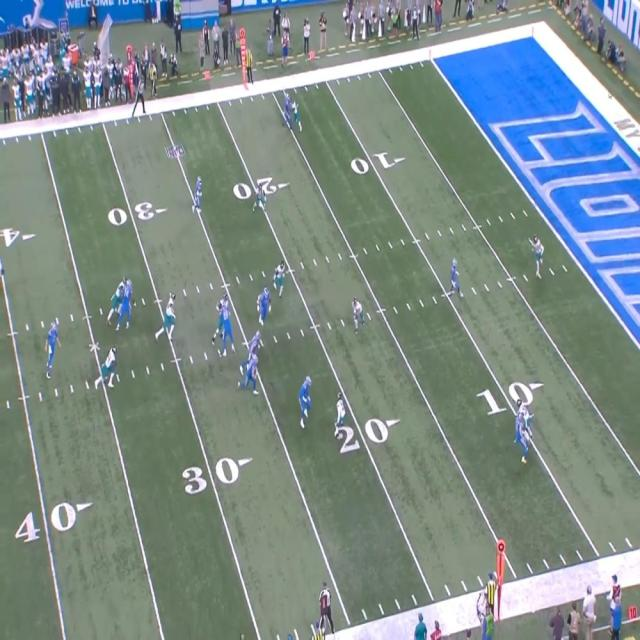db: (515, 396, 531, 440), (530, 238, 544, 276), (334, 392, 346, 430), (253, 185, 266, 212), (291, 100, 301, 130)
lb: (274, 260, 288, 296), (352, 297, 365, 331)
qb: (44, 326, 56, 380), (452, 260, 462, 296)
skill: (513, 412, 529, 461), (194, 176, 205, 210), (246, 356, 256, 393), (283, 93, 292, 125)
